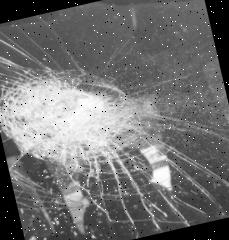glass: (0, 36, 193, 204)
